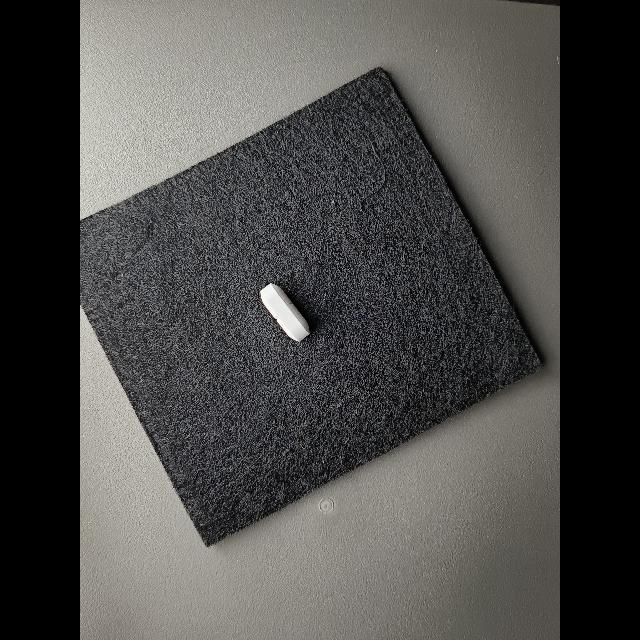Intact Pill: (260, 283, 310, 342)
